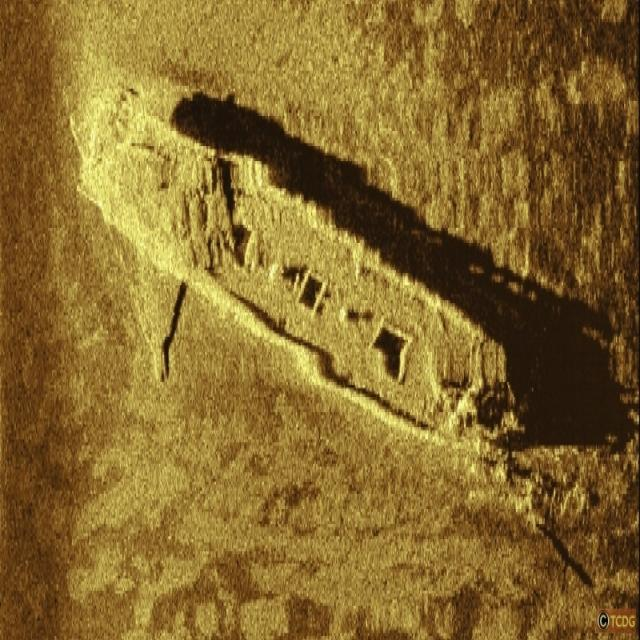ship: (74, 87, 512, 457)
